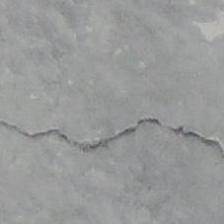Crack: (0, 34, 224, 224)
